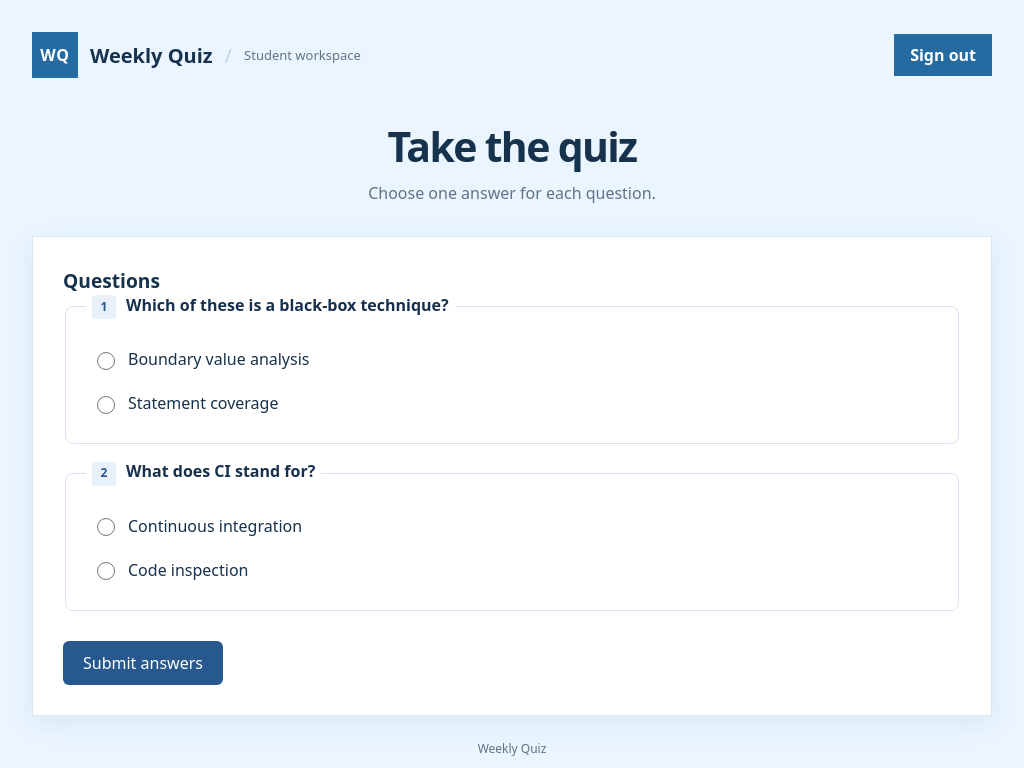
Test: disables the submit button while the attempt is in flight
Click the radio button labelled "Boundary value analysis" at (106, 361), box [97,352,115,370]
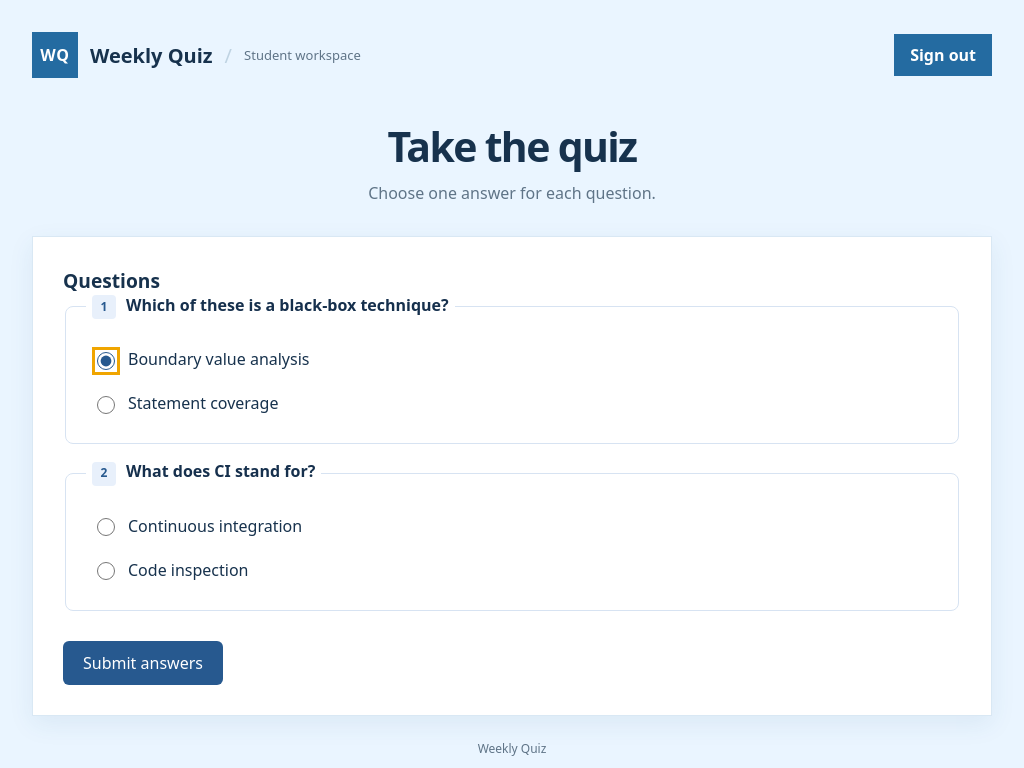
Click the radio button labelled "Code inspection" at (106, 571), box [97,562,115,580]
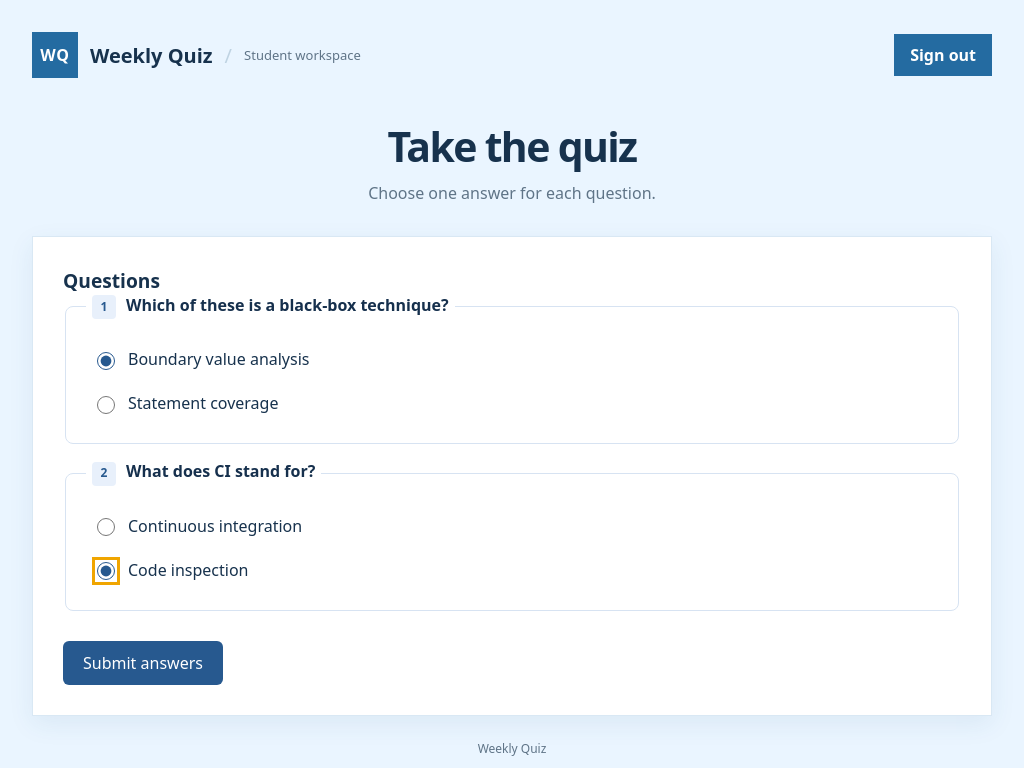
Click the button "Submit answers" at (143, 663), box [63,641,223,685]
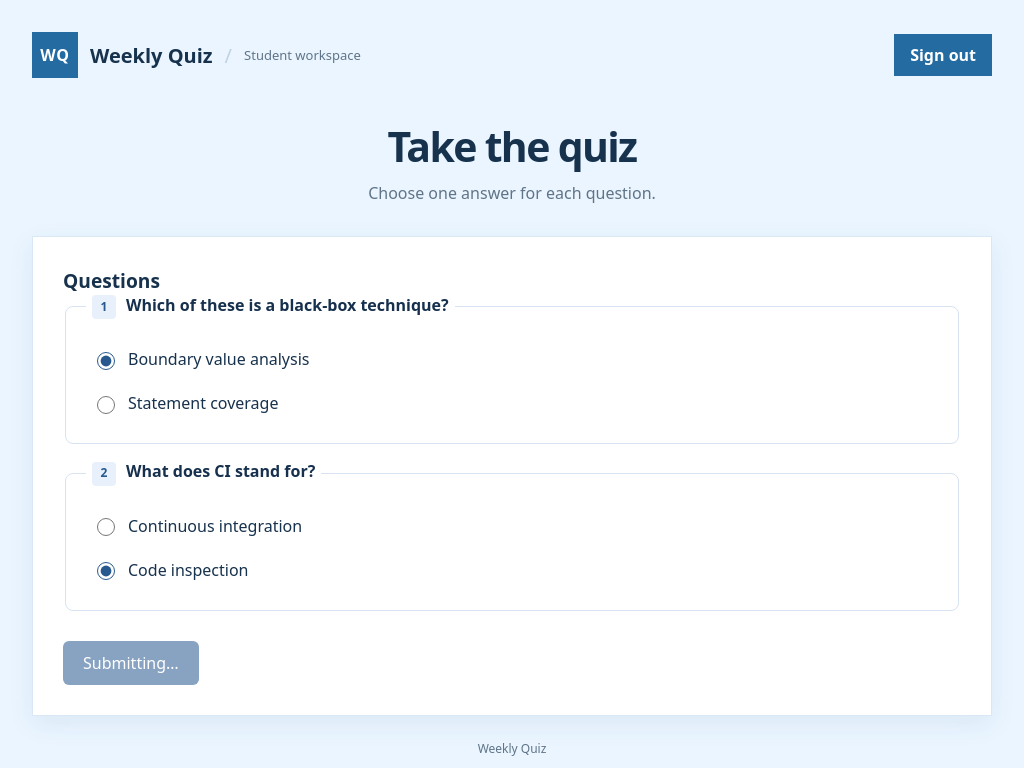
Result: the button "Submitting…" is disabled at [63,641,199,685]
